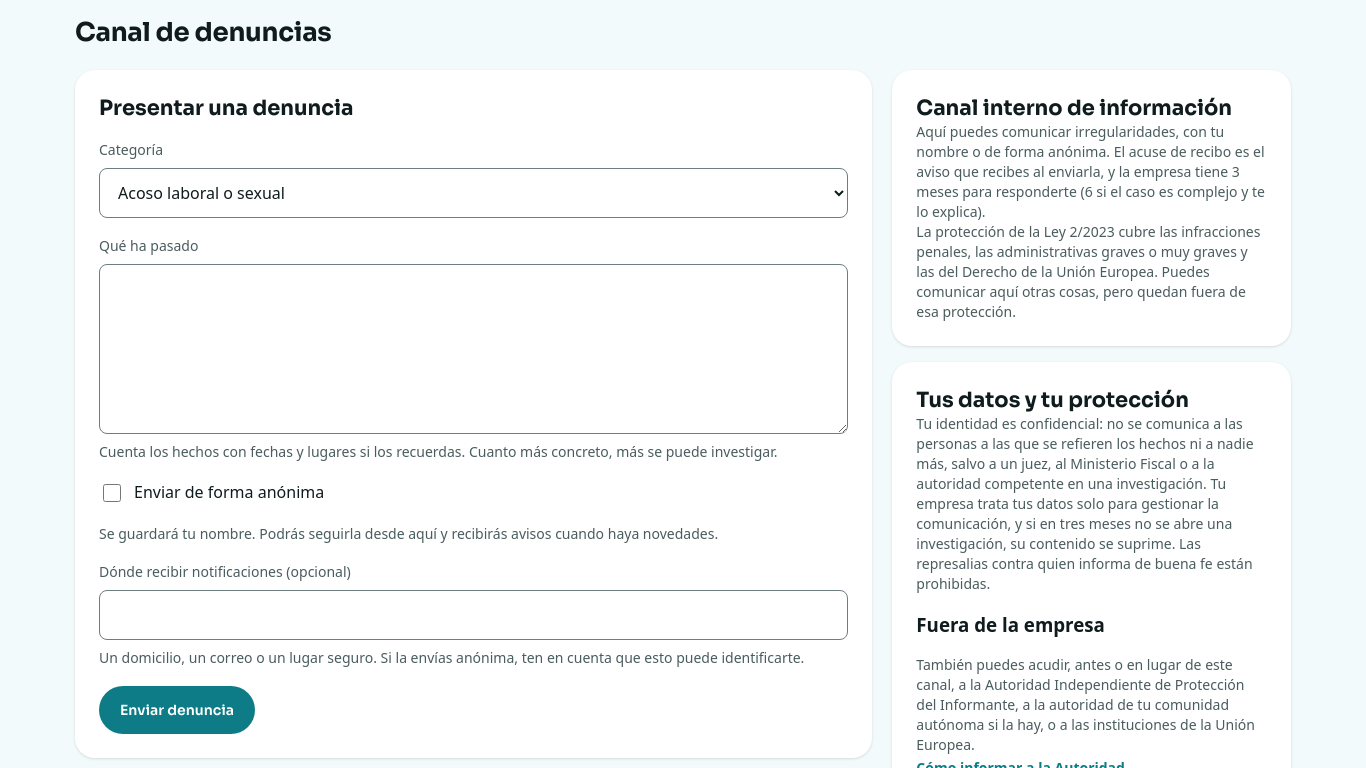
it: canal de denuncias › sin descripción no se envía
Click the button "Enviar denuncia" at [177, 710], box [99,686,255,734]
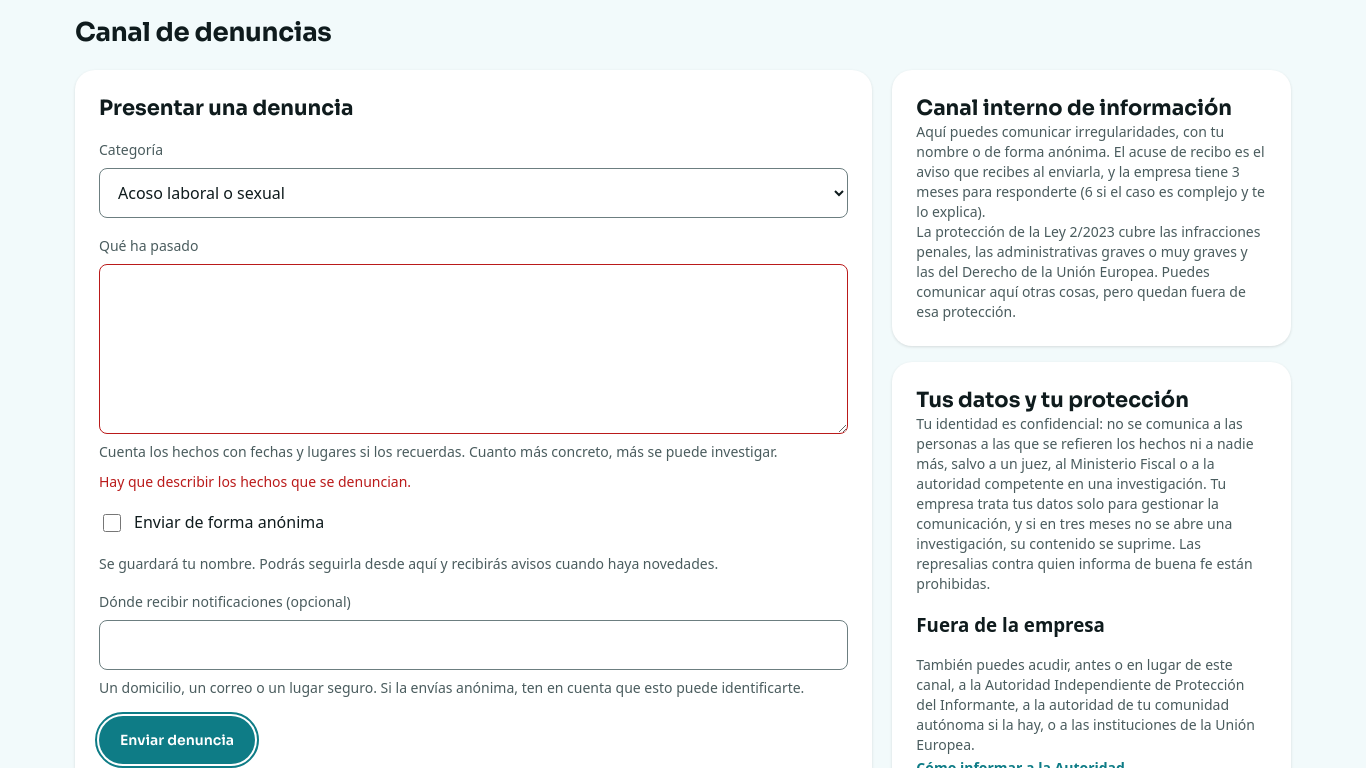
Expected: the text "Hay que describir los hechos que se denuncian." is shown, [99,472,411,491]
